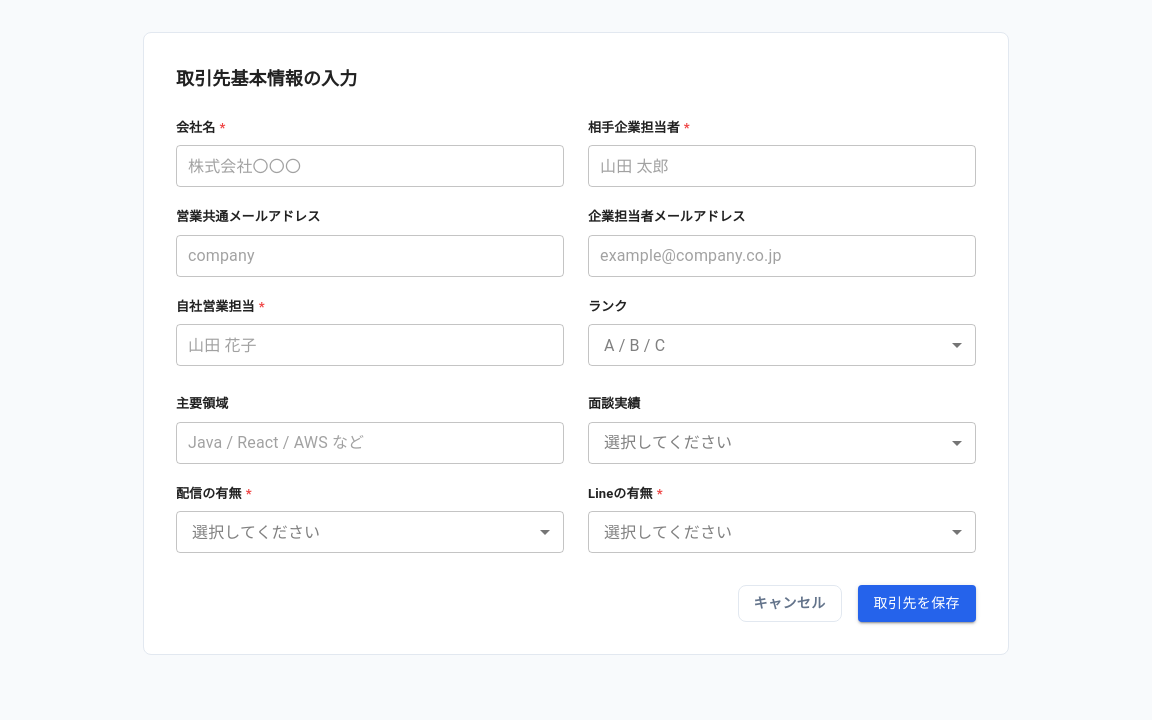
Test: CreateCompanyForm › 未入力の項目がある場合はエラーメッセージが表示される
Step 1. Click the button "取引先を保存" → click(917, 604), box x1=858 y1=585 x2=976 y2=622
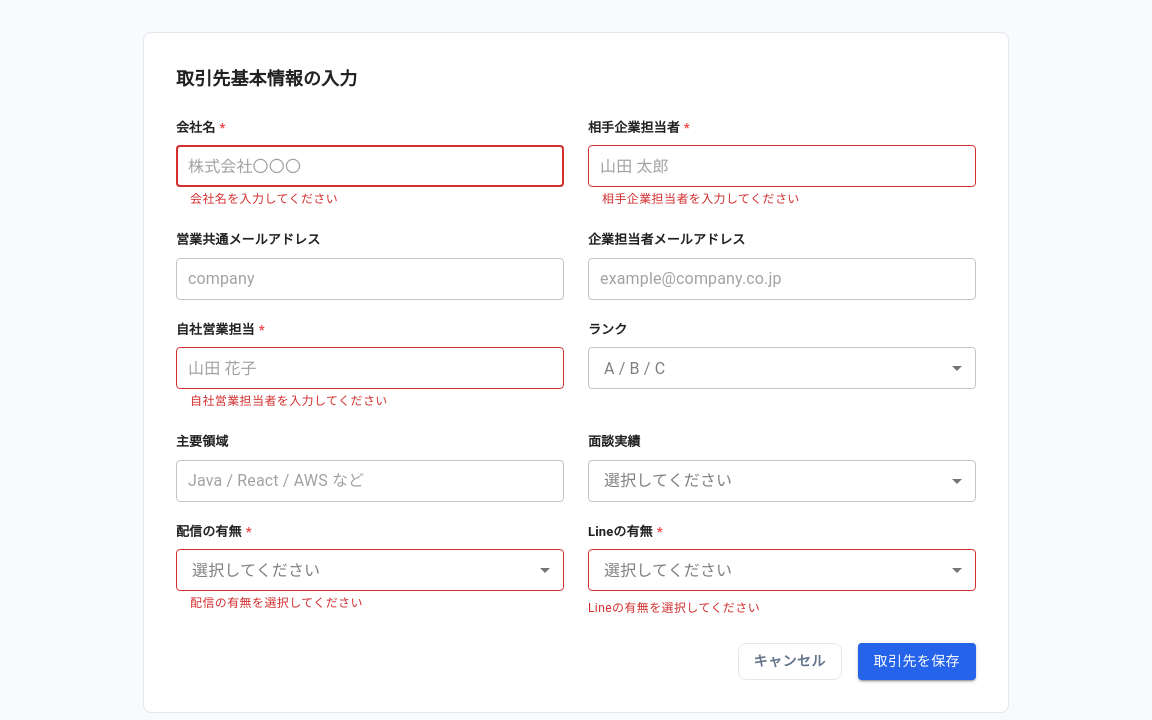
Now the text "会社名を入力してください" is shown, box x1=190 y1=192 x2=338 y2=206
Now the text "自社営業担当者を入力してください" is shown, box x1=190 y1=394 x2=388 y2=408
Now the text "配信の有無を選択してください" is shown, box x1=190 y1=596 x2=363 y2=610
